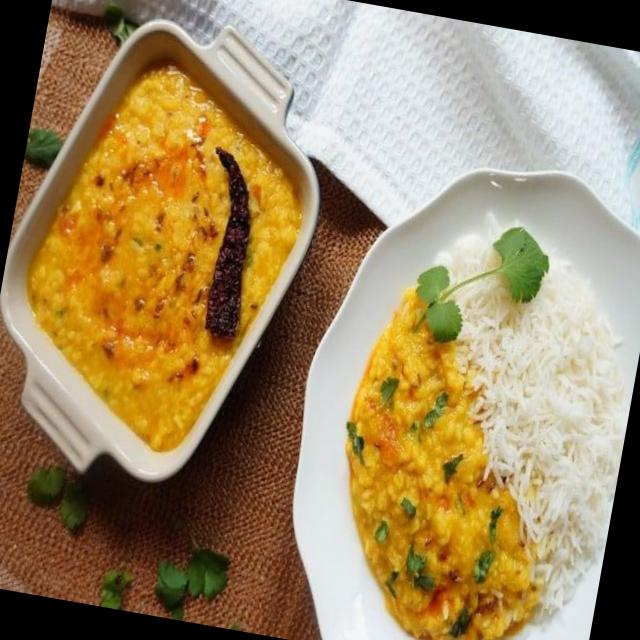dal: (26, 62, 306, 462), (342, 271, 539, 640)
rice: (447, 226, 629, 606)
